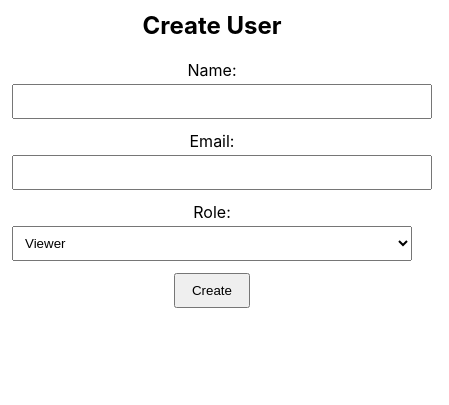
Test case: UserForm › shows validation errors when submitting empty form
Click the button "Create": coordinates (212, 290) 174,273 -> 250,308
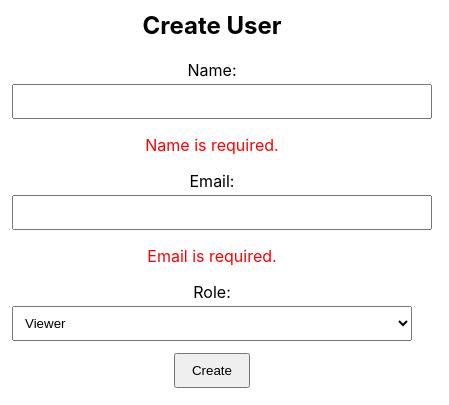
Now the text "Name is required." is shown, box 145,135 -> 279,155
Now the text "Email is required." is shown, box 147,246 -> 277,266
